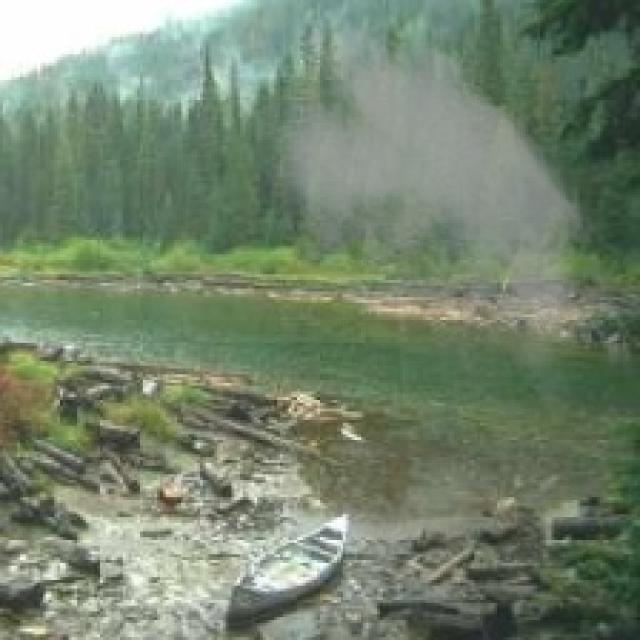Smoke: (246, 11, 628, 432)
